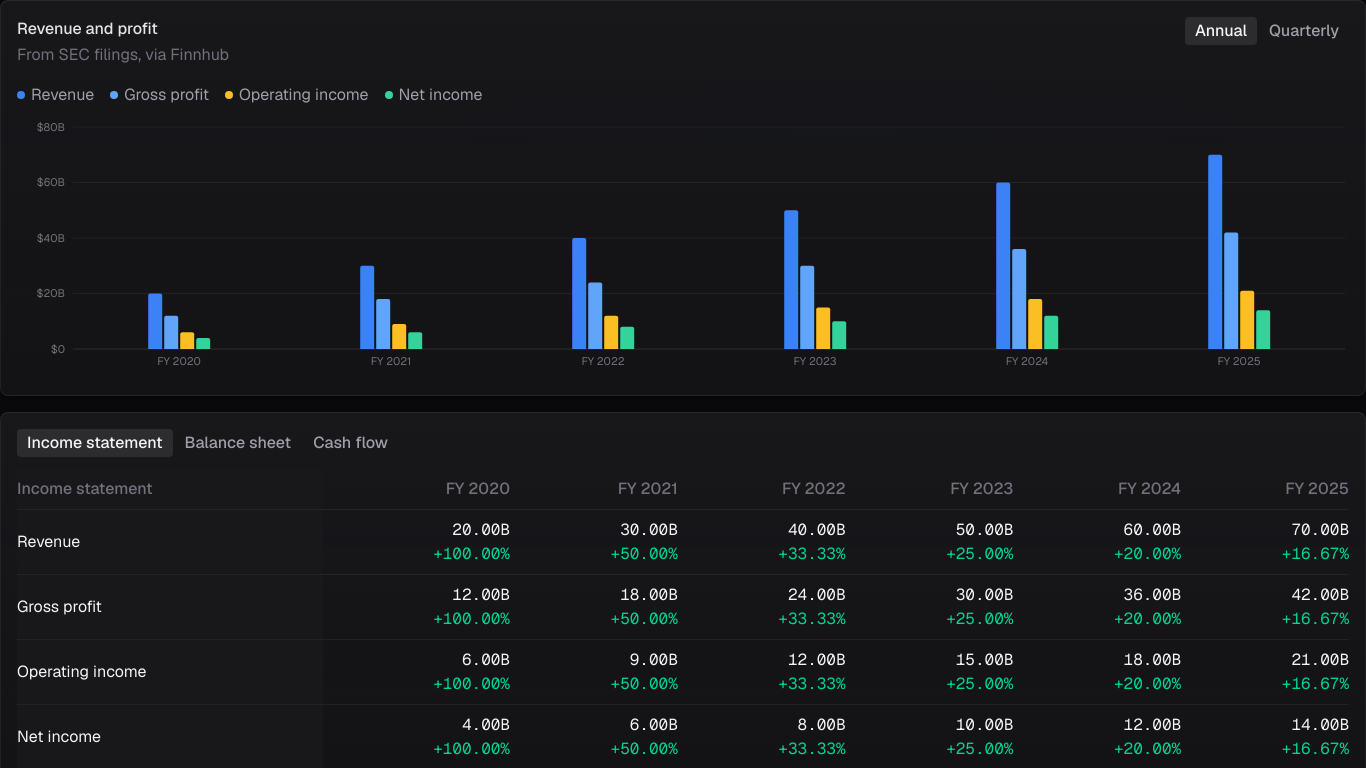
Test: FinancialsTab › says a balance sheet is missing instead of showing an empty table
Click the button "Quarterly" at (1304, 31), box x1=1259 y1=17 x2=1349 y2=45
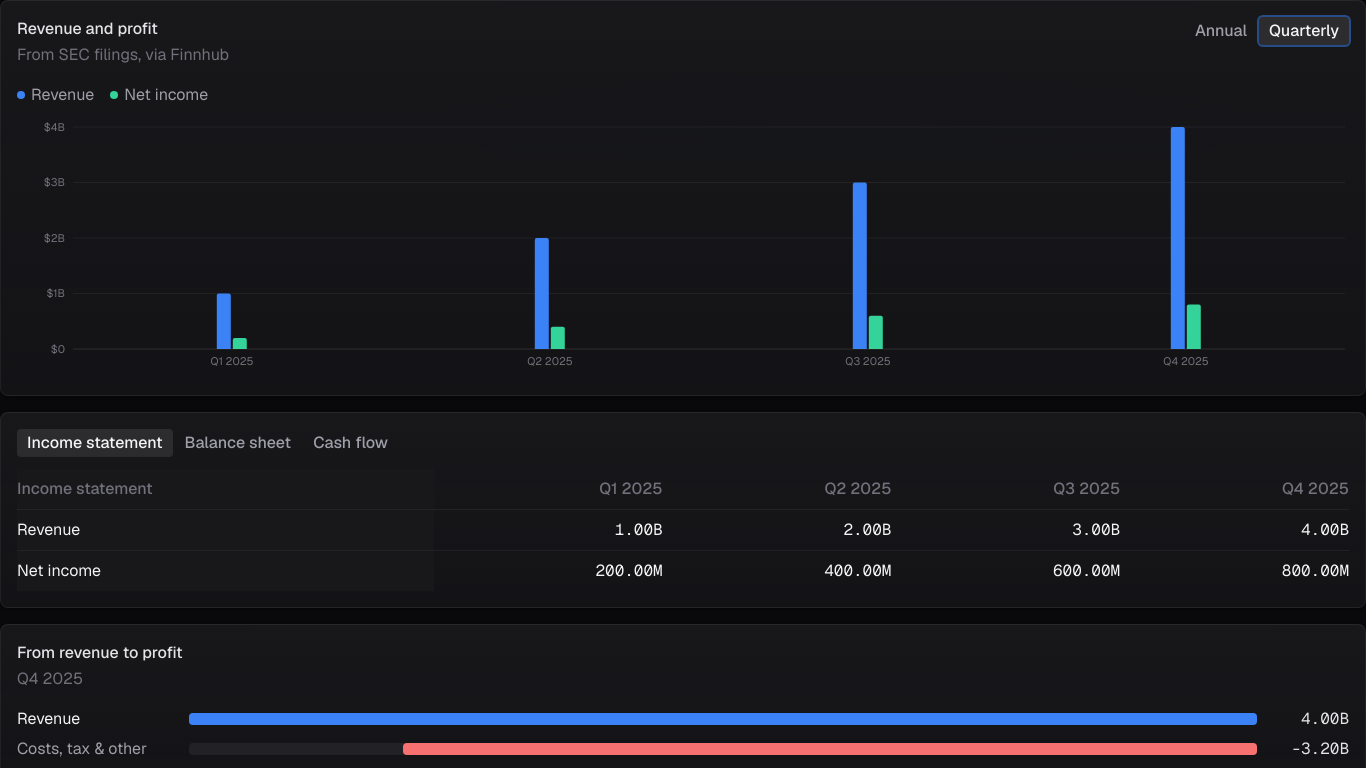
Click the button "Balance sheet" at (238, 443), box x1=175 y1=429 x2=301 y2=457
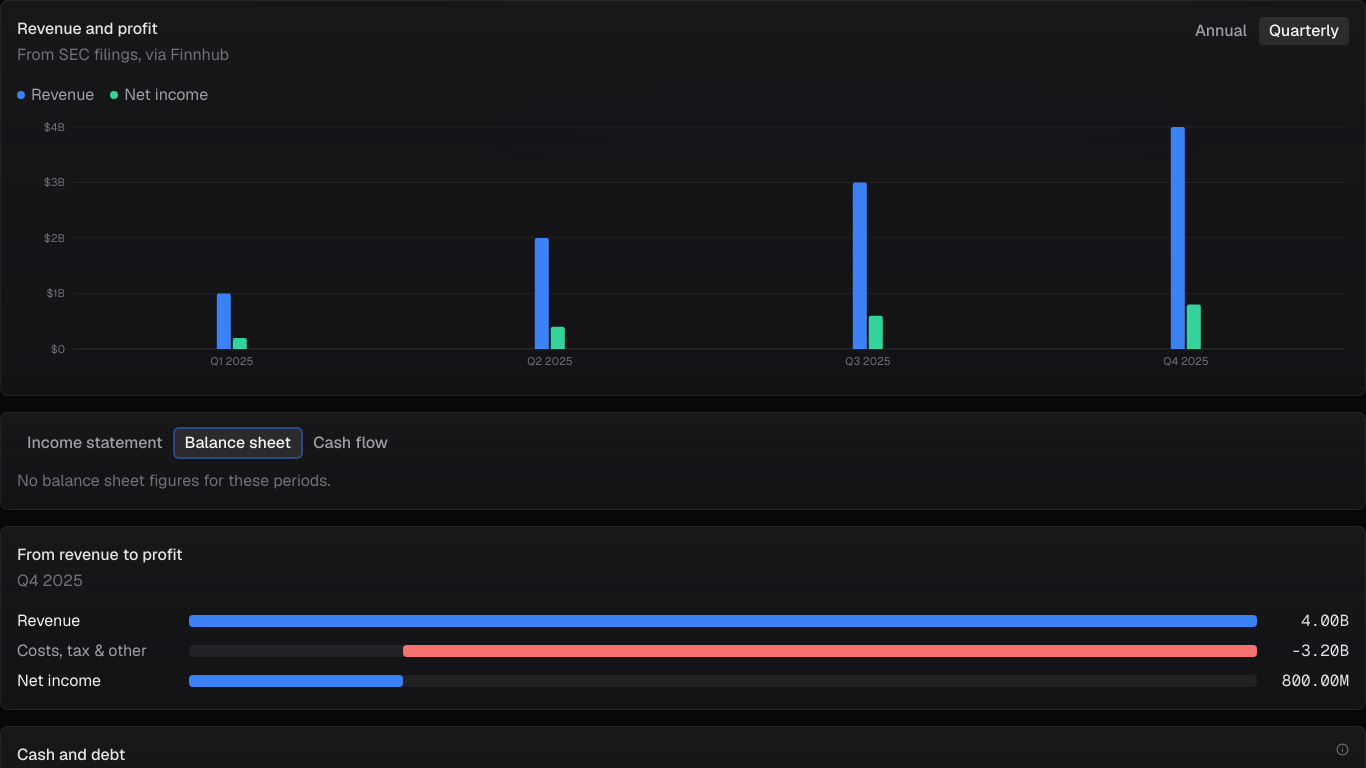
expect the text "No balance sheet figures for these periods." is shown: met, box x1=17 y1=470 x2=330 y2=491
